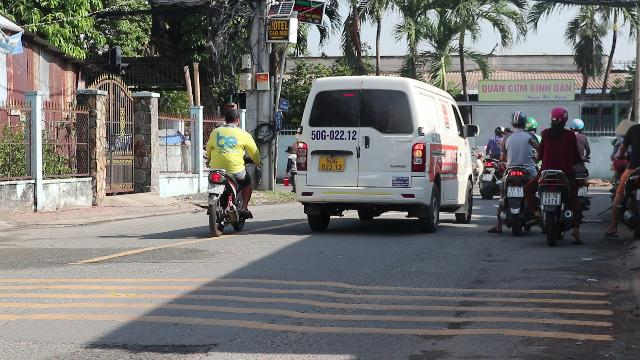helmet: (548, 106, 568, 127), (509, 109, 526, 128), (568, 117, 584, 131), (524, 118, 538, 130)
licenseplate: (541, 192, 559, 204), (207, 183, 223, 193), (508, 187, 522, 195)
motorcyclist: (536, 105, 590, 243), (201, 104, 257, 236), (494, 109, 540, 235)
nohelmet: (221, 105, 239, 125)
